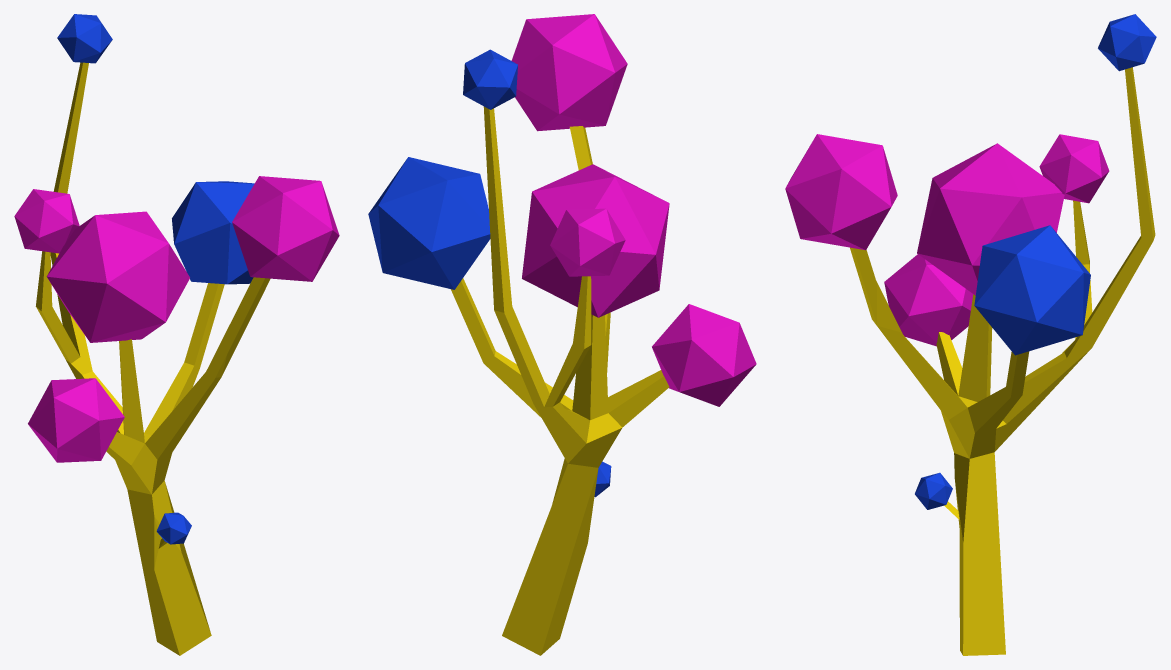
File: Tree3.fbx
3 renders of one model, left to right at view 1: azimuth 30°, elevation 25°; view 2: azimuth 150°, elevation 25°; view 3: azimuth 270°, elevation 25°, orthographic. The views are drawn at different scales.
Parts seen in each view (by area): view 1: Tree3_LOD0; view 2: Tree3_LOD0; view 3: Tree3_LOD0.
Boxes of the visible parts, box(x1,y1,x2,y2) form: Tree3_LOD0: box(14, 14, 339, 655); Tree3_LOD0: box(368, 14, 756, 655); Tree3_LOD0: box(785, 14, 1156, 655).
Size of what is drawn, in the model's own units: 226 by 438 by 236.
